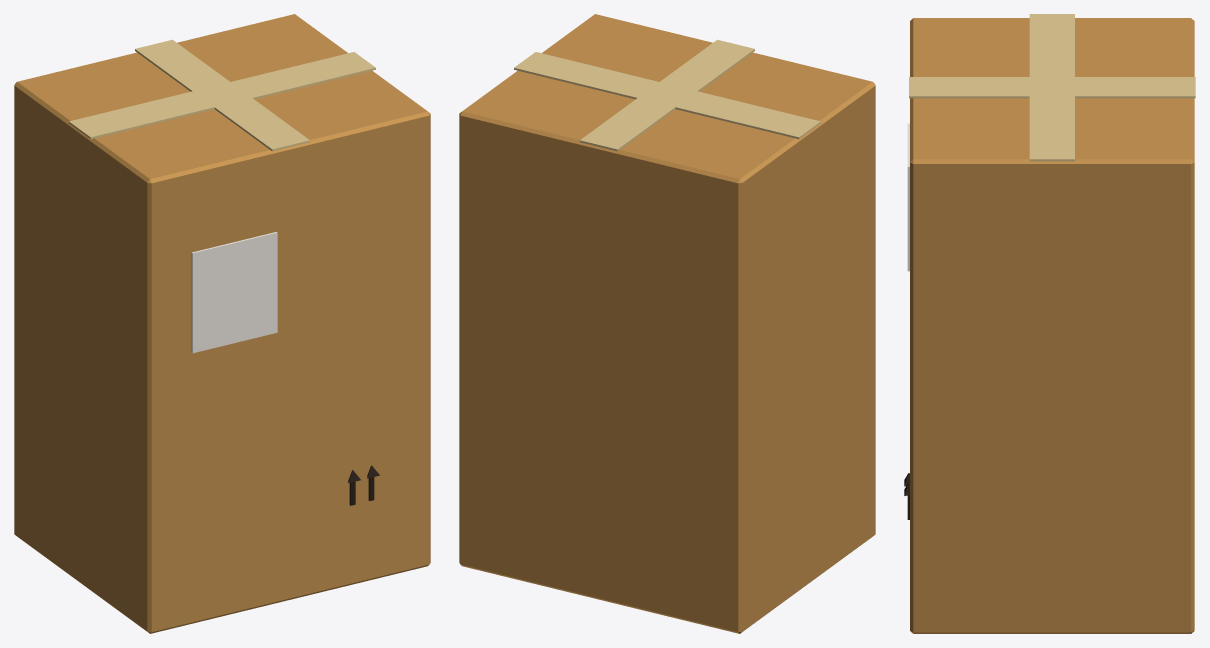
Rendered from cardboard_box_tall.glb.
The picture shows the model from 3 angles, left to right: view 1: azimuth 30°, elevation 25°; view 2: azimuth 150°, elevation 25°; view 3: azimuth 270°, elevation 25°; orthographic projection. The views are drawn at different scales.
Visible parts, largest first — view 1: cardboard_box_tall; view 2: cardboard_box_tall; view 3: cardboard_box_tall.
Boxes of the visible parts, x1,y1,x2,y2 form: cardboard_box_tall: [14, 14, 430, 633]; cardboard_box_tall: [459, 14, 875, 633]; cardboard_box_tall: [904, 14, 1195, 633].
Bounding box in the file's own units: 0.604 × 0.924 × 0.512.
